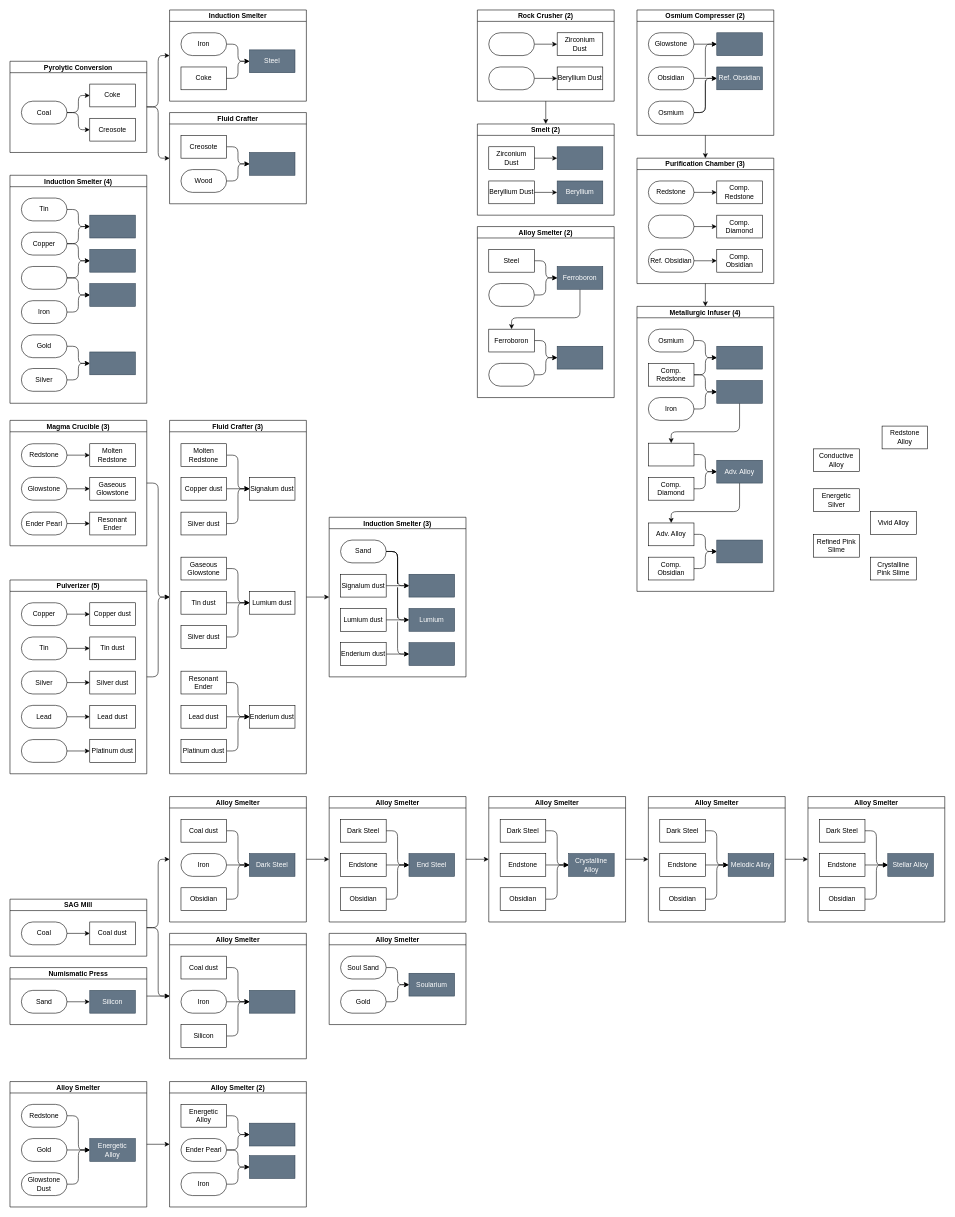
The diagram is 955 pixels wide and 1217 high, and some of its shapes have lost their labels. The shapes that lost their labels are listed below. From the top down, each one's centre as x and y in pixels, then its label:
the point at 511,44: Diorite
the point at 739,44: Ref. Glowstone
the point at 511,78: Andesite
the point at 272,163: Treated Wood
the point at 580,158: Zirconium
the point at 112,226: Bronze
the point at 671,226: Diamond
the point at 44,277: Nickel
the point at 112,260: Constantan
the point at 112,294: Invar
the point at 511,294: Boron
the point at 112,363: Electrum
the point at 511,374: Lithium
the point at 580,357: Tough
the point at 739,357: B. Control Circuit
the point at 739,391: Enrich. Alloy
the point at 671,454: Enriched Alloy
the point at 739,551: Atomic Alloy
the point at 431,585: Signalum
the point at 431,653: Enderium
the point at 44,750: Platnum
the point at 272,1001: Electrical Steel
the point at 272,1134: Vibrant Alloy
the point at 272,1166: Pulsating Steel
